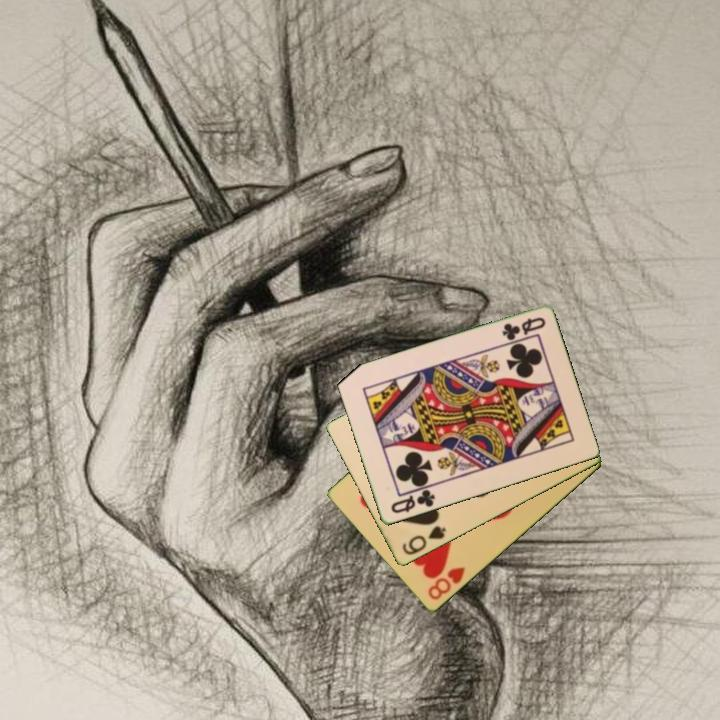6s: (399, 523, 449, 558)
8h: (424, 563, 468, 603)
Qc: (387, 486, 438, 517), (498, 314, 548, 344)
